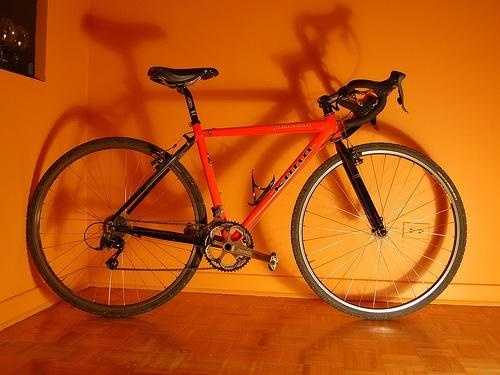bicycle: (26, 66, 470, 320)
